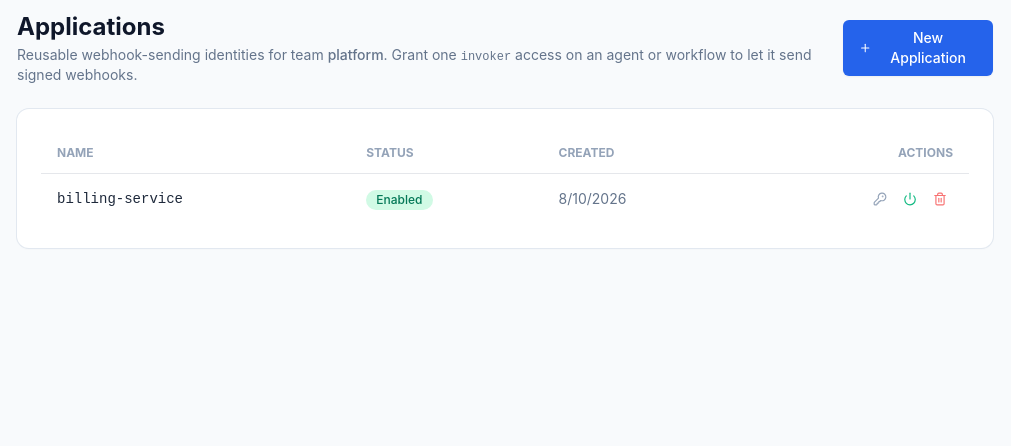
Test: ApplicationsPage › rotates the secret and reveals the new one once
Step 1. Click the button named "rotate secret for billing-service" → (880, 199), box x1=867 y1=186 x2=893 y2=212
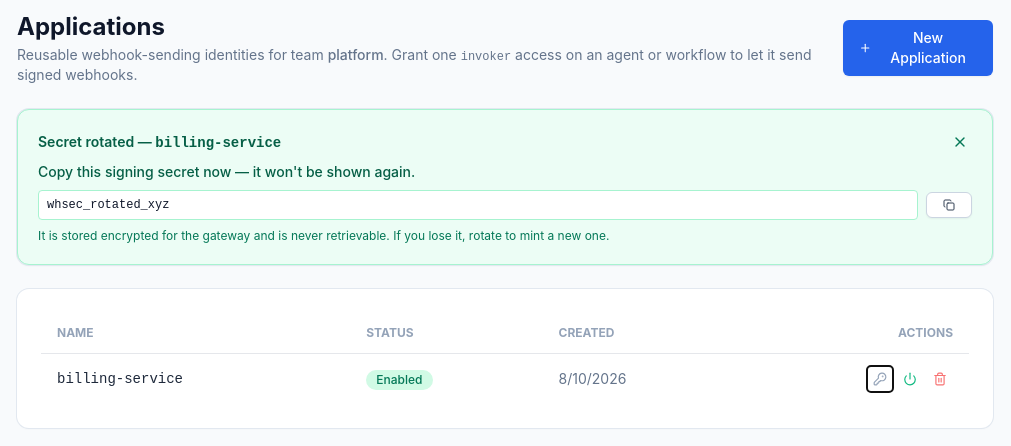
Result: the text with test id "application-secret" reads "whsec_rotated_xyz" at x1=47 y1=198 x2=169 y2=212
